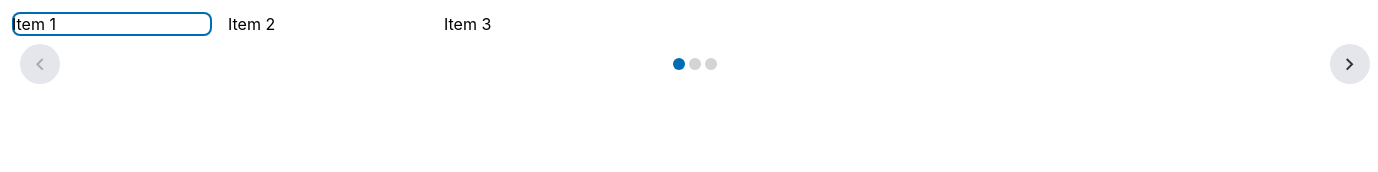
Scenario: CardCarousel › disables the next button on the last page
Click the button named "Next".
click(1350, 64)  # box [1330, 44, 1370, 84]
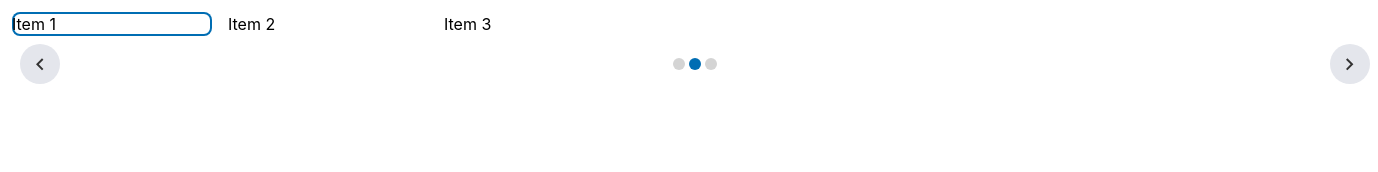
Click the button named "Next".
click(1350, 64)  # box [1330, 44, 1370, 84]
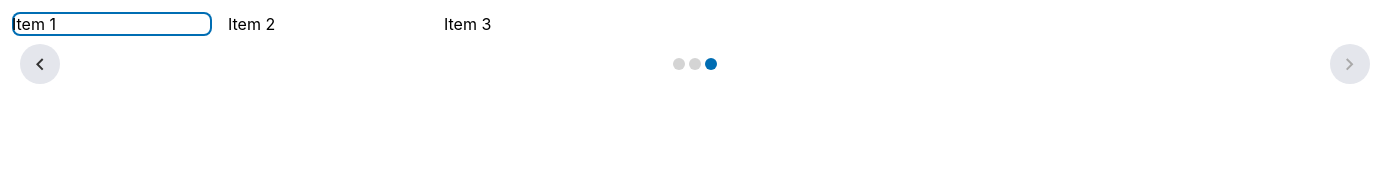
Check: the button named "Next" is disabled, box [1330, 44, 1370, 84]
